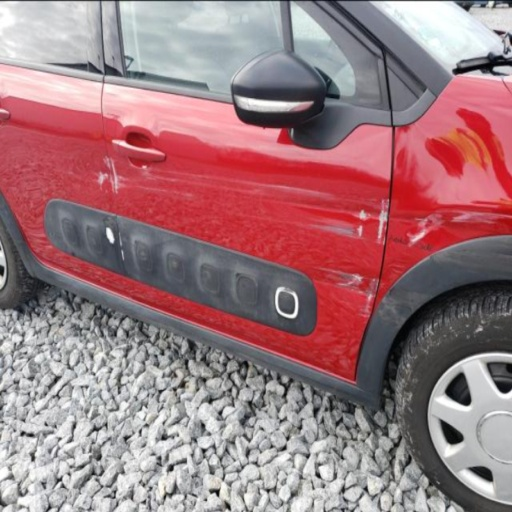dent: (407, 108, 511, 247)
scratch: (244, 183, 389, 247), (94, 153, 196, 199), (311, 266, 378, 318), (406, 207, 455, 249)
